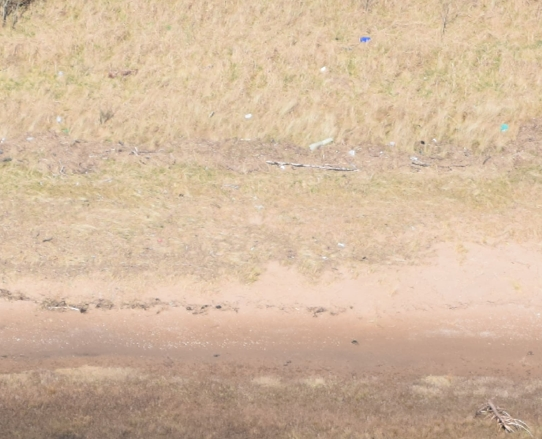scattered_barrel: (235, 28, 516, 156)
straight_bar: (257, 148, 361, 185), (297, 123, 345, 160)
